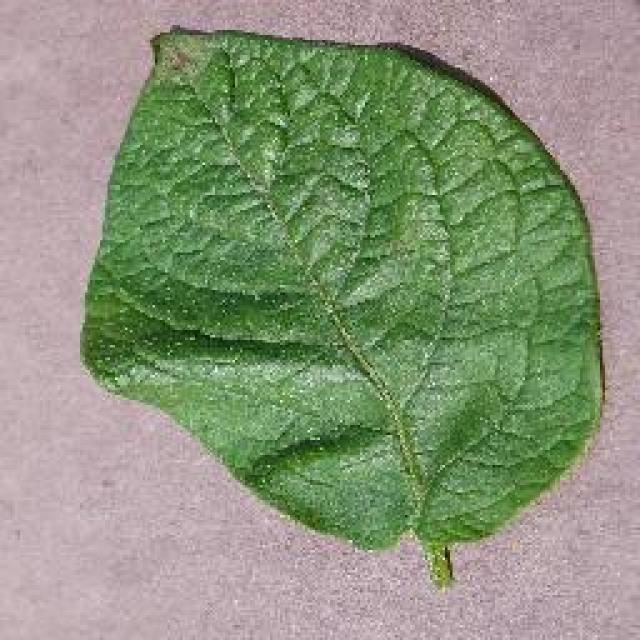Potato: (77, 22, 605, 590)
